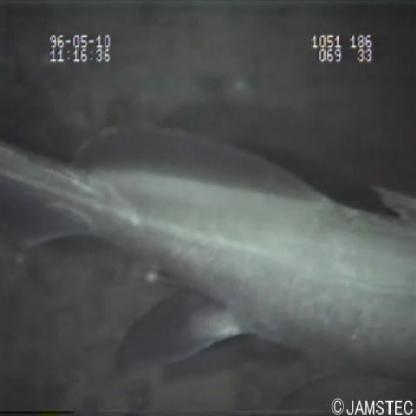Bio: (1, 112, 416, 385)
